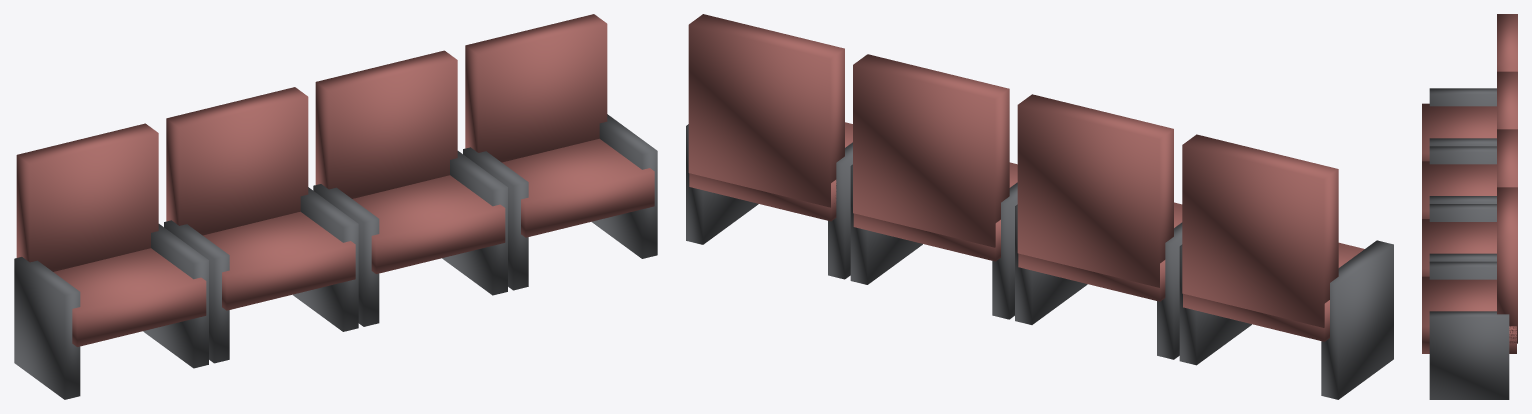
File: theater_seat_row__wide.glb
The picture shows the model from 3 angles, left to right: view 1: azimuth 30°, elevation 25°; view 2: azimuth 150°, elevation 25°; view 3: azimuth 270°, elevation 25°; orthographic projection. The views are drawn at different scales.
Visible parts, largest first — view 1: world; view 2: world; view 3: world.
Part boxes in pixels (left/top/right/bottom): world: left=14, top=14, right=657, bottom=399; world: left=686, top=14, right=1393, bottom=399; world: left=1422, top=14, right=1517, bottom=399.
Size of the model in its own units: 2.85 by 0.93 by 0.505.
